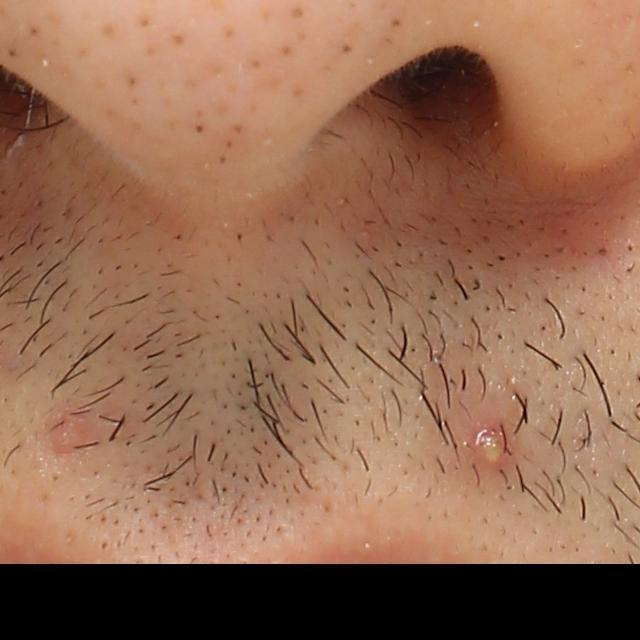papule: (43, 400, 92, 459)
pustule: (458, 414, 520, 474)
